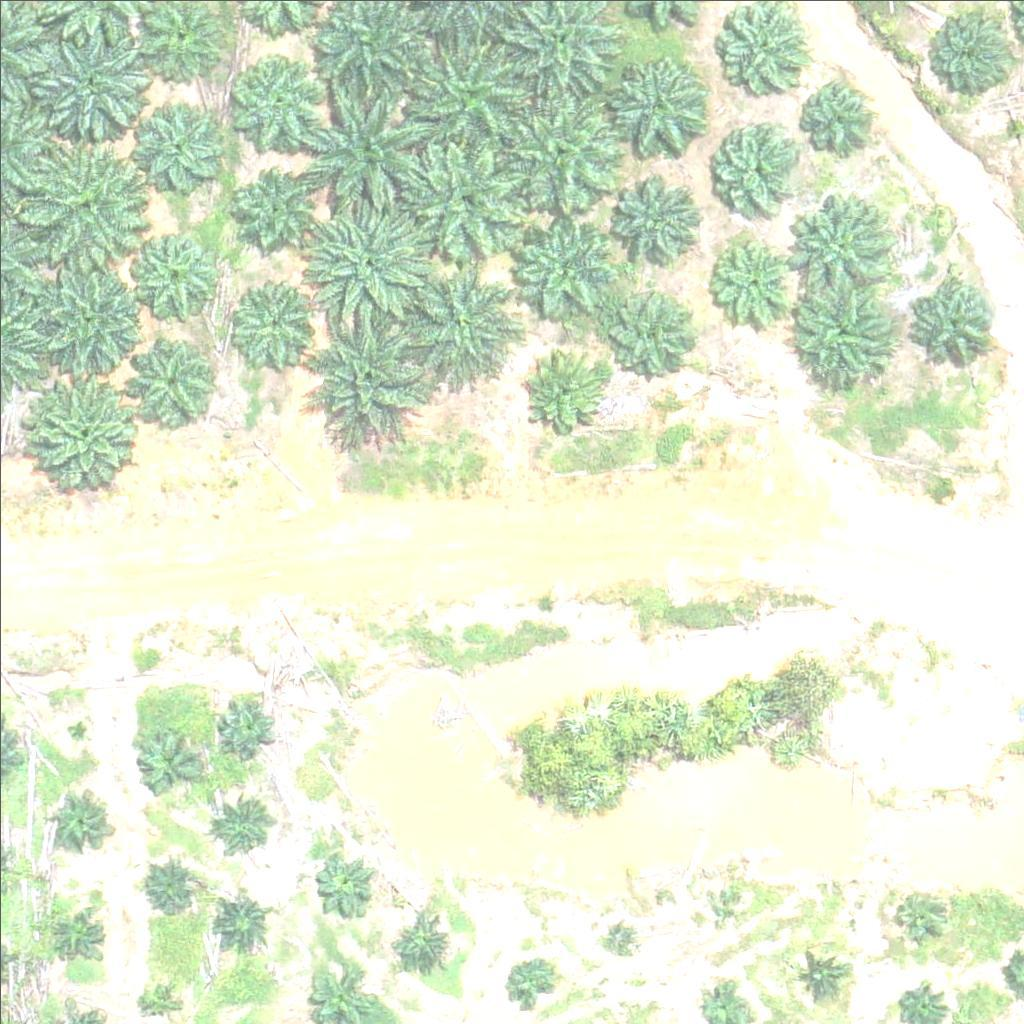Kelapa_Sawit: (24, 252, 149, 378), (25, 23, 150, 149), (302, 319, 427, 445), (307, 198, 432, 324), (306, 86, 431, 212), (393, 263, 518, 389), (398, 138, 523, 264), (405, 35, 530, 161), (496, 89, 621, 215), (13, 142, 138, 267), (31, 378, 144, 492), (226, 46, 326, 147), (511, 216, 611, 317), (788, 192, 888, 293), (792, 285, 892, 386), (224, 276, 324, 376), (610, 55, 710, 155), (131, 109, 219, 197), (601, 288, 689, 376), (708, 233, 796, 321), (711, 120, 799, 208), (909, 273, 997, 361), (792, 73, 879, 161), (125, 232, 212, 320), (126, 331, 213, 419), (232, 159, 319, 247), (522, 345, 609, 433), (608, 169, 695, 257), (923, 8, 1010, 96), (136, 724, 211, 800), (215, 789, 278, 852), (316, 857, 379, 920), (48, 788, 111, 851), (216, 692, 279, 755), (394, 912, 456, 975), (209, 888, 271, 950), (142, 860, 204, 922), (795, 945, 845, 996), (506, 956, 556, 1006), (57, 910, 107, 960), (893, 884, 943, 934), (137, 976, 175, 1014), (606, 928, 631, 953), (701, 894, 726, 919)
